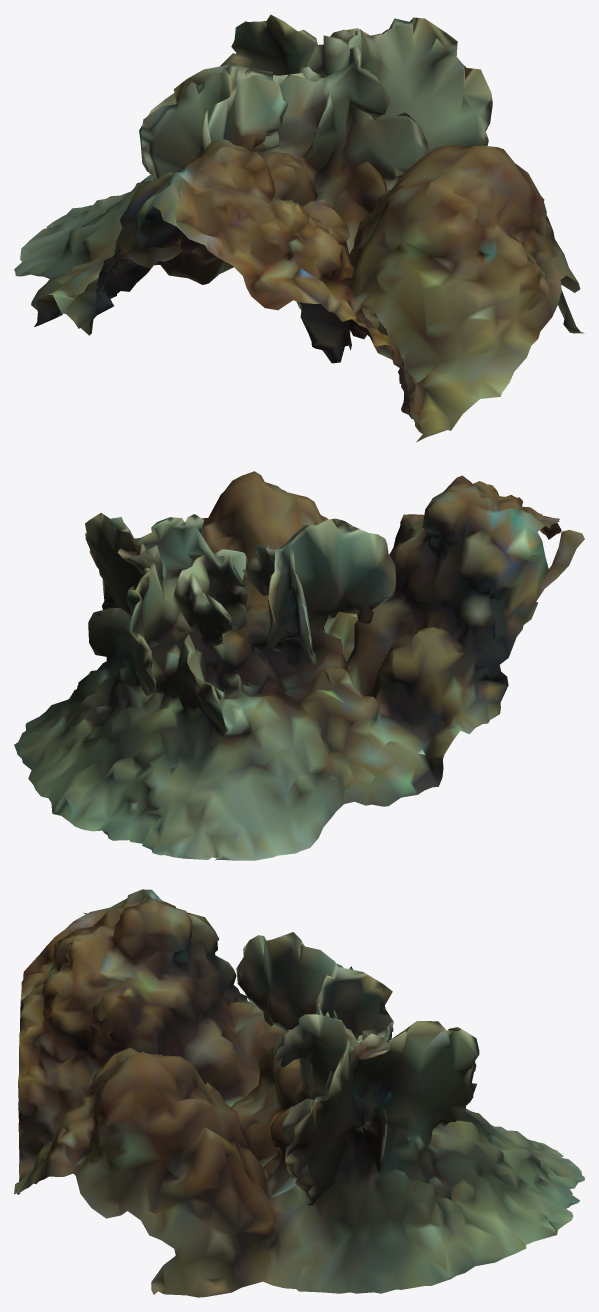
Rendered from pavona-coral.glb.
The picture shows the model from 3 angles, top to bottom: view 1: azimuth 30°, elevation 25°; view 2: azimuth 150°, elevation 25°; view 3: azimuth 270°, elevation 25°; orthographic projection. The views are drawn at different scales.
Visible parts, largest first — view 1: baked; view 2: baked; view 3: baked.
Boxes of the visible parts, left/top/right/bottom form: baked: left=14, top=14, right=584, bottom=442; baked: left=14, top=471, right=584, bottom=860; baked: left=14, top=889, right=584, bottom=1297.
Size of the model in its own units: 0.8358 by 0.4698 by 1.
